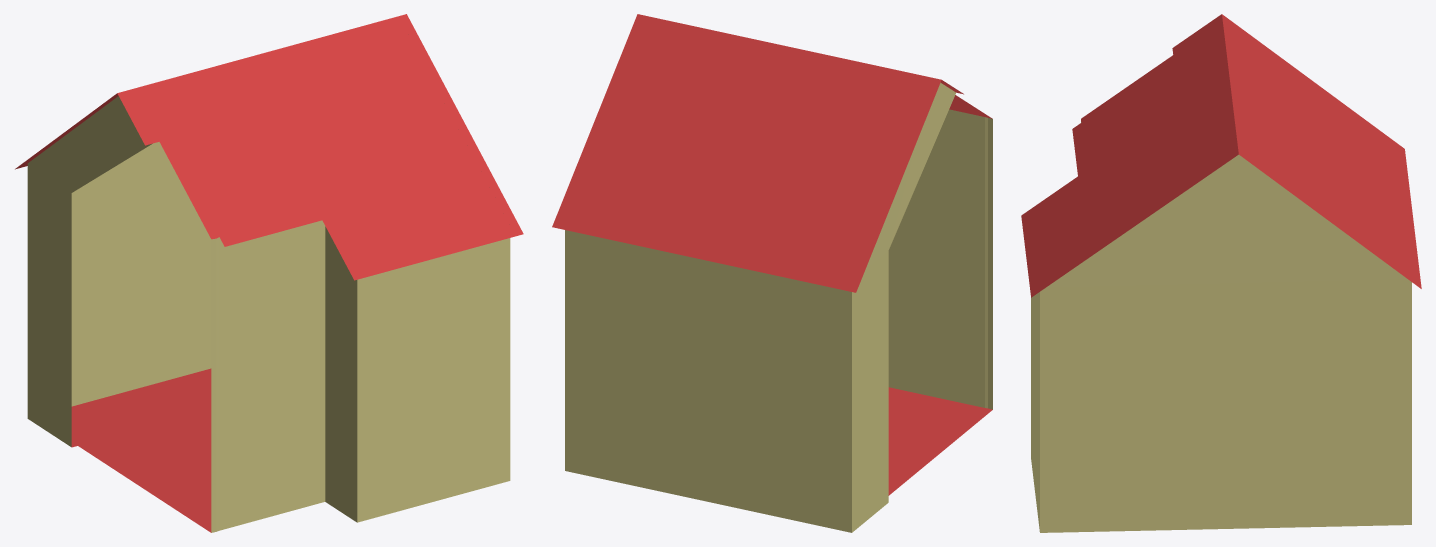
3 renders of one model, left to right at view 1: azimuth 30°, elevation 25°; view 2: azimuth 150°, elevation 25°; view 3: azimuth 270°, elevation 25°, orthographic. The views are drawn at different scales.
Size of the model in its own units: 9.42 by 10.7 by 11.15.
